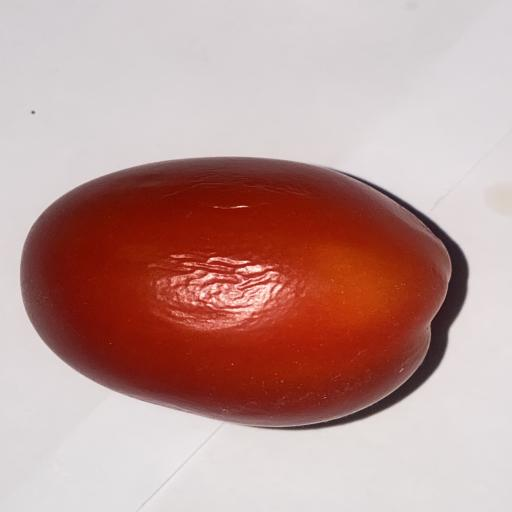overipe: (22, 157, 451, 426)
